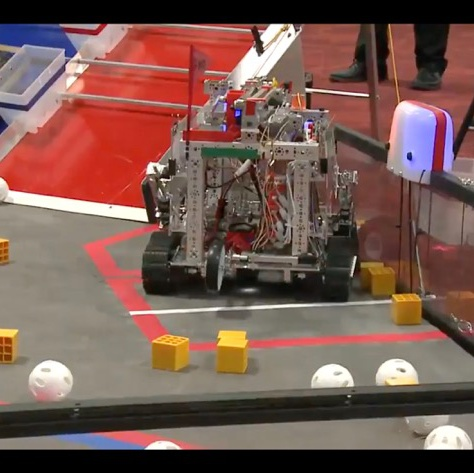robot: (136, 42, 367, 306)
